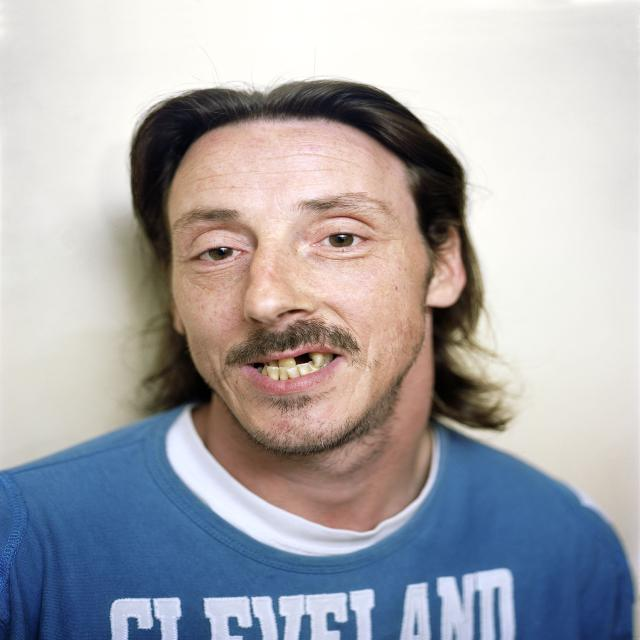human: (1, 73, 640, 640)
